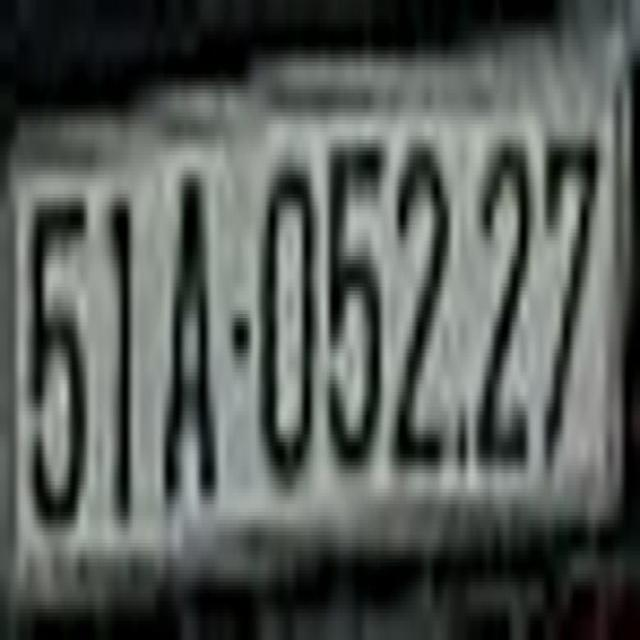0: (258, 132, 312, 492)
1: (110, 175, 135, 539)
2: (474, 132, 531, 492), (393, 132, 448, 492)
5: (31, 182, 90, 543), (326, 120, 384, 477)
7: (541, 112, 601, 496)
A: (158, 143, 218, 520)
